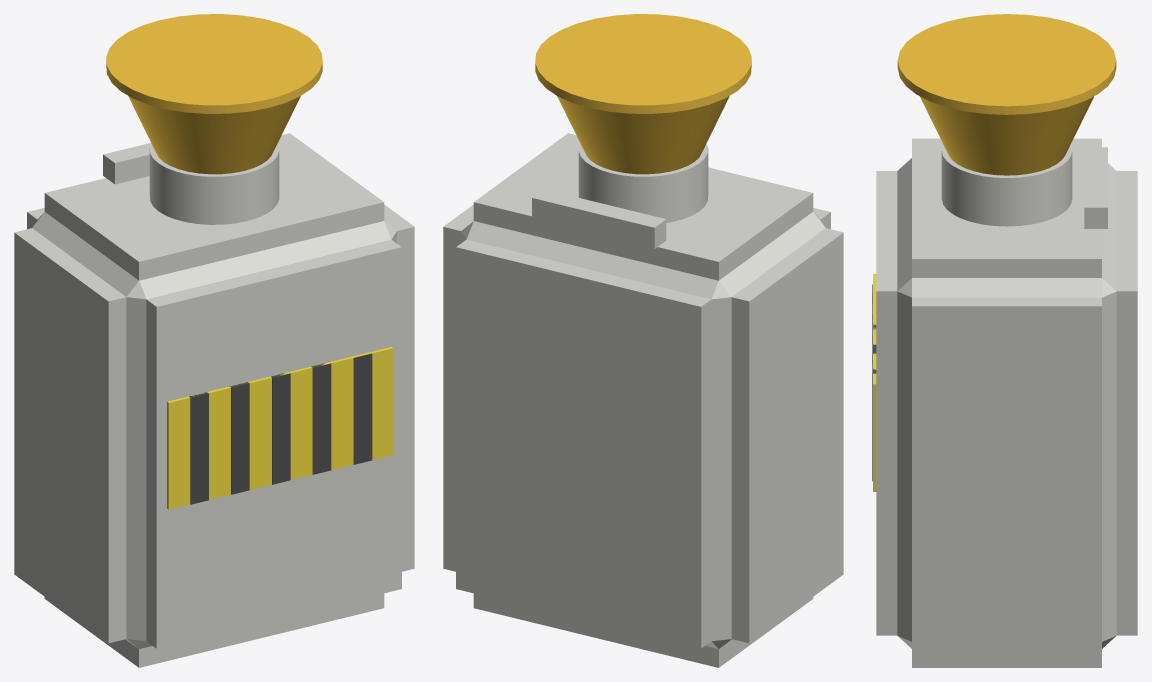
Rendered from ChemicalWasteContainer.fbx.
3 views of the same model, side by side, from view 1: azimuth 30°, elevation 25°; view 2: azimuth 150°, elevation 25°; view 3: azimuth 270°, elevation 25° (orthographic).
Visible parts, largest first — view 1: ChemicalWasteContainer; view 2: ChemicalWasteContainer; view 3: ChemicalWasteContainer.
Part boxes in pixels (x1,y1,x2,y2): ChemicalWasteContainer: [14, 14, 414, 667]; ChemicalWasteContainer: [443, 14, 843, 667]; ChemicalWasteContainer: [872, 14, 1137, 667].
Bounding box in the file's own units: 0.3 × 0.509 × 0.2234.
